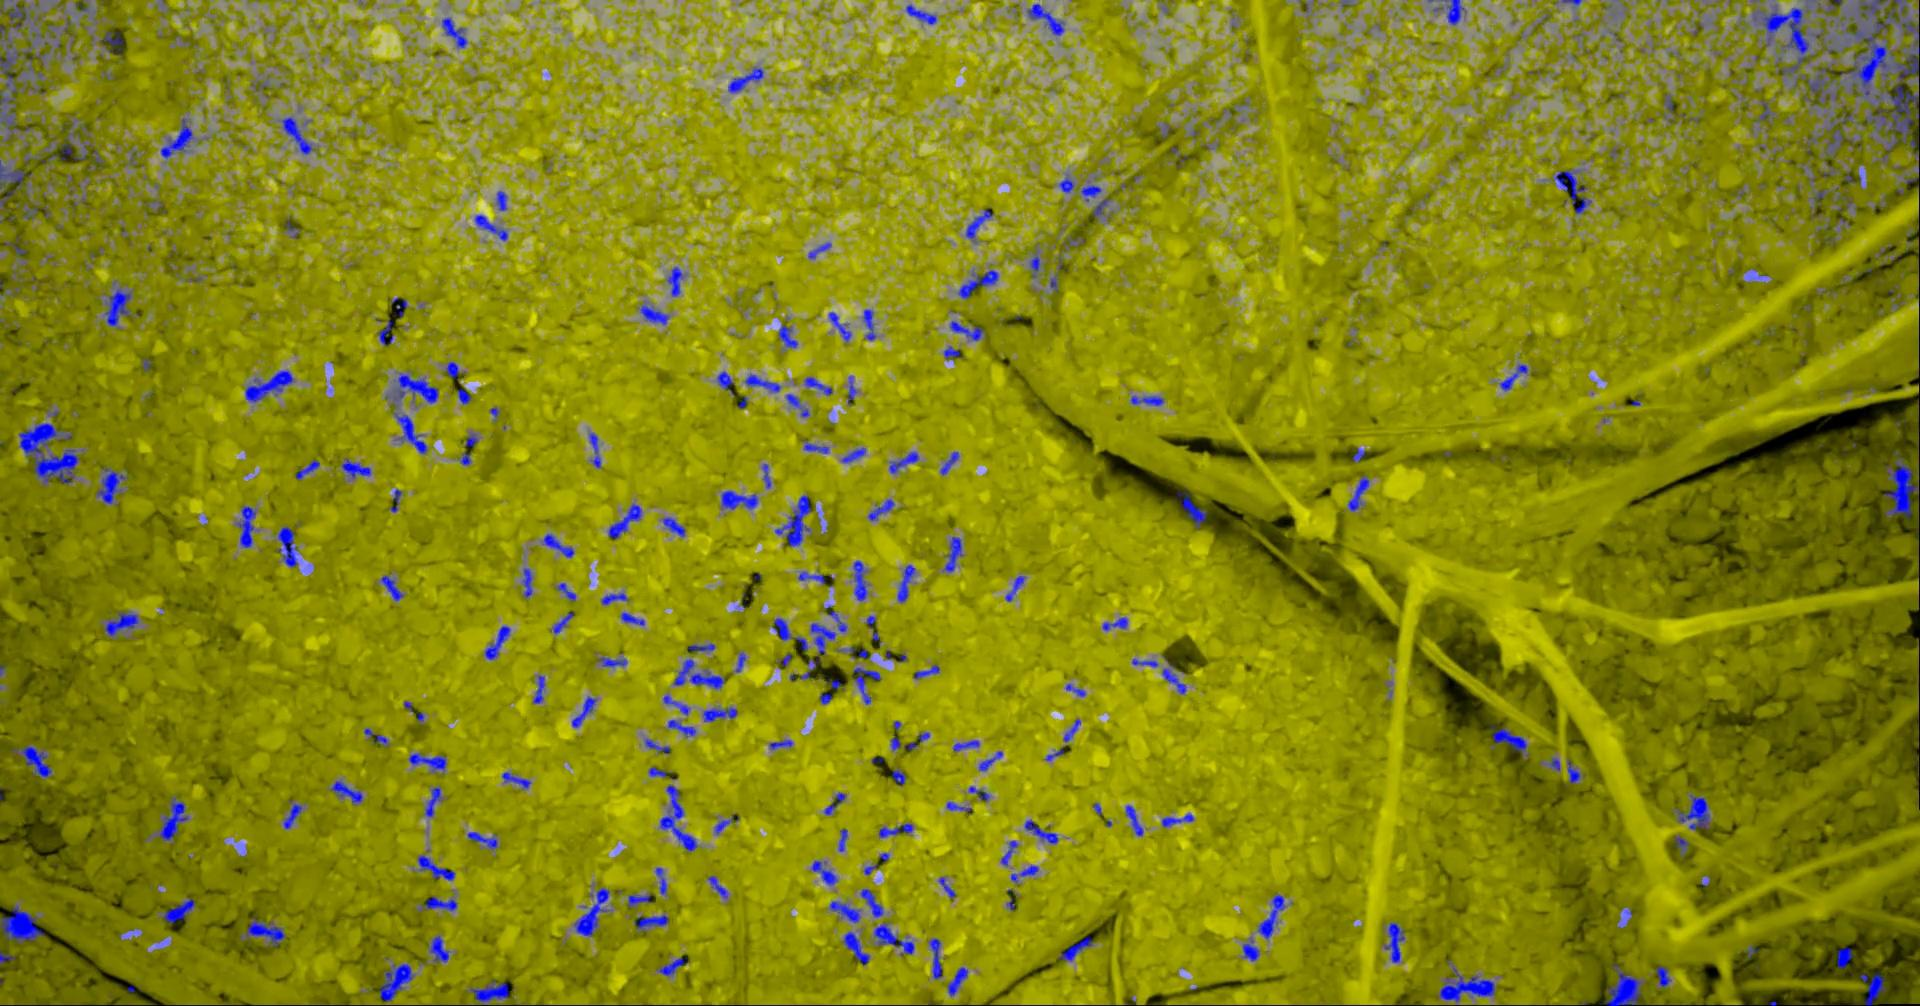ant: (659, 784, 697, 851), (1437, 965, 1495, 1002), (800, 622, 836, 678), (775, 495, 811, 546), (573, 887, 610, 936), (0, 904, 43, 942), (1825, 111, 1862, 155), (1553, 170, 1590, 213), (244, 370, 293, 401), (1603, 964, 1641, 1005), (392, 373, 438, 406), (673, 659, 724, 688), (0, 159, 30, 206), (0, 50, 18, 130), (392, 412, 425, 453), (10, 746, 51, 779), (157, 796, 188, 840), (378, 963, 413, 1001), (1176, 486, 1206, 528), (239, 917, 284, 945), (872, 923, 914, 954), (1674, 794, 1709, 829), (1804, 67, 1837, 105), (160, 118, 192, 158), (1257, 894, 1285, 939), (607, 503, 641, 539), (1026, 3, 1063, 36), (281, 116, 312, 154), (957, 269, 998, 298), (773, 617, 808, 650), (1491, 727, 1528, 757), (97, 467, 127, 503), (469, 981, 513, 1005), (852, 667, 880, 704), (161, 893, 194, 923), (105, 288, 131, 326), (417, 855, 455, 880), (1161, 655, 1185, 694), (484, 625, 510, 659), (842, 931, 869, 965), (728, 66, 763, 91), (1057, 935, 1092, 960), (965, 210, 992, 243), (474, 213, 507, 240), (276, 526, 297, 567), (104, 611, 138, 636), (408, 752, 446, 774), (441, 17, 467, 47), (330, 779, 362, 804), (1859, 973, 1884, 1005), (1384, 922, 1404, 962), (236, 506, 255, 547), (1432, 0, 1465, 24), (1023, 819, 1057, 843), (1498, 363, 1528, 390), (41, 138, 72, 163), (1347, 474, 1368, 511), (542, 533, 573, 558), (571, 696, 596, 727), (897, 564, 916, 602), (949, 320, 984, 340), (720, 490, 757, 509), (744, 373, 780, 392), (943, 536, 963, 572), (810, 860, 837, 885), (828, 311, 851, 340), (860, 888, 883, 917), (888, 451, 918, 473), (829, 901, 858, 922), (905, 4, 936, 24), (853, 560, 869, 600), (639, 304, 668, 324), (947, 967, 968, 996), (632, 915, 668, 931), (99, 30, 123, 55), (657, 956, 687, 976), (867, 498, 894, 520), (825, 605, 847, 631), (662, 695, 690, 715), (428, 934, 448, 962), (1858, 0, 1887, 19), (785, 392, 808, 417), (380, 575, 403, 600), (714, 813, 739, 835), (1125, 805, 1143, 836), (804, 376, 832, 395), (342, 459, 370, 478), (419, 895, 457, 909), (928, 937, 941, 979), (702, 706, 737, 721), (467, 831, 497, 848), (6, 3, 25, 29), (667, 265, 683, 296), (667, 719, 695, 737), (1010, 864, 1037, 882), (823, 793, 844, 815), (295, 459, 319, 479), (1004, 575, 1023, 601), (283, 803, 302, 828), (424, 786, 441, 815), (877, 823, 912, 837), (938, 451, 959, 474), (662, 516, 684, 536), (550, 612, 573, 633), (707, 875, 728, 898), (502, 771, 530, 788), (978, 751, 1002, 770), (862, 309, 876, 340), (1161, 813, 1192, 827), (1001, 840, 1017, 866), (778, 324, 797, 347), (363, 727, 387, 744), (4, 235, 25, 254), (588, 432, 599, 467), (1567, 760, 1585, 782), (1063, 718, 1079, 742), (644, 738, 669, 753), (1091, 197, 1109, 218), (716, 371, 733, 394), (1242, 939, 1258, 962), (378, 319, 392, 345), (841, 447, 865, 462), (1079, 184, 1101, 201), (938, 876, 955, 898), (803, 439, 828, 453), (797, 572, 825, 584), (601, 592, 629, 605), (913, 664, 938, 678), (890, 735, 916, 749), (626, 893, 651, 907), (808, 243, 830, 258), (556, 582, 575, 600), (1130, 395, 1163, 405), (968, 786, 989, 801), (1836, 946, 1851, 968), (1655, 965, 1670, 987), (1102, 617, 1128, 630), (598, 655, 626, 667), (391, 297, 406, 318), (389, 488, 401, 512), (620, 612, 644, 625), (1672, 836, 1688, 855), (91, 149, 105, 169), (284, 217, 298, 238), (533, 674, 543, 702), (522, 567, 531, 598), (952, 739, 979, 749), (655, 868, 665, 894), (847, 376, 856, 405), (1757, 100, 1770, 121), (1029, 251, 1039, 277), (946, 801, 971, 812), (890, 768, 905, 785), (444, 361, 458, 379), (686, 643, 714, 652), (848, 647, 870, 658), (1065, 683, 1084, 696), (1058, 177, 1073, 192), (770, 739, 792, 749), (456, 387, 470, 404), (1131, 658, 1157, 667), (648, 766, 669, 776), (761, 464, 770, 488), (1812, 189, 1826, 205), (943, 345, 959, 359), (735, 652, 745, 672), (1825, 0, 1843, 11), (825, 677, 843, 688), (838, 828, 847, 851), (0, 951, 15, 964), (23, 206, 37, 218), (463, 433, 477, 446), (1352, 447, 1365, 461), (497, 191, 505, 210), (819, 692, 830, 702)
